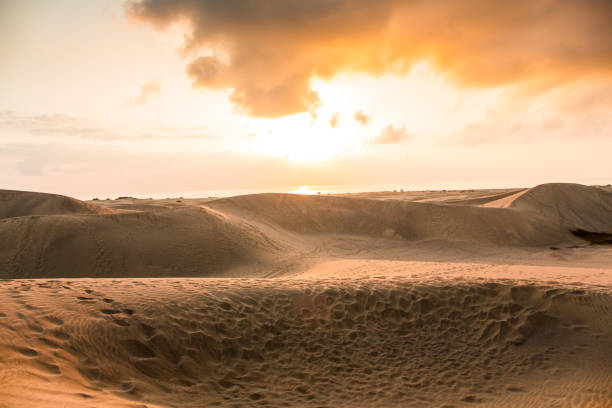human_foot_print: (35, 288, 517, 407), (48, 337, 86, 359), (7, 339, 38, 361), (97, 378, 126, 401), (34, 360, 70, 375)
